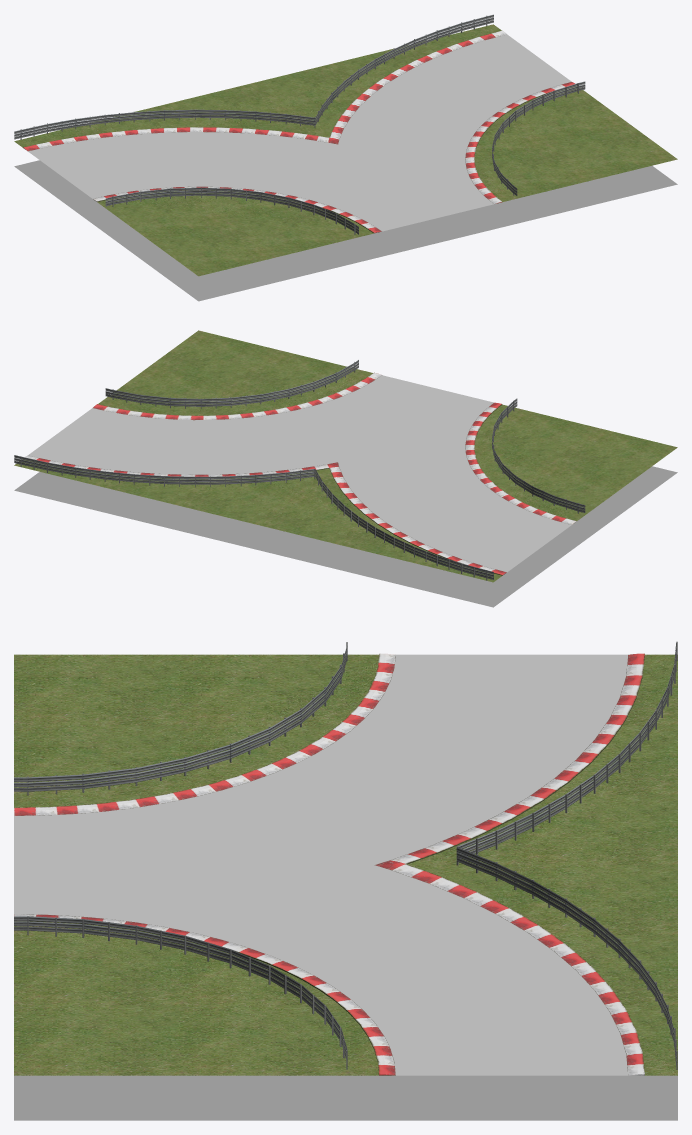
The model's file is Track_Split_A_Mobile.fbx.
3 views of the same model, one above another, from view 1: azimuth 30°, elevation 25°; view 2: azimuth 150°, elevation 25°; view 3: azimuth 270°, elevation 25° (orthographic). The views are drawn at different scales.
Parts seen in each view (by area): view 1: Road, Grass, Snap_Plane_Invisible2, Rail_C, Curb_C, Rail_B, Curb_B, Rail_A, Curb_A; view 2: Road, Grass, Snap_Plane_Invisible2, Rail_C, Curb_C, Rail_A, Curb_B, Curb_A, Rail_B; view 3: Road, Grass, Snap_Plane_Invisible2, Curb_C, Rail_C, Rail_A, Rail_B, Curb_A, Curb_B.
Part boxes in pixels (x1,y1,x2,y2): Road: [28, 34, 571, 231]; Grass: [14, 24, 677, 276]; Snap_Plane_Invisible2: [14, 160, 677, 301]; Rail_C: [14, 14, 493, 139]; Curb_C: [23, 30, 506, 203]; Rail_B: [105, 187, 358, 234]; Curb_B: [465, 82, 575, 204]; Rail_A: [492, 81, 585, 195]; Curb_A: [93, 186, 381, 233]; Road: [28, 375, 571, 572]; Grass: [14, 330, 677, 582]; Snap_Plane_Invisible2: [14, 466, 677, 607]; Rail_C: [14, 455, 493, 580]; Curb_C: [25, 455, 506, 575]; Rail_A: [105, 360, 358, 408]; Curb_B: [93, 372, 381, 420]; Curb_A: [465, 402, 576, 524]; Rail_B: [492, 398, 585, 513]; Road: [14, 654, 628, 1075]; Grass: [14, 654, 677, 1075]; Snap_Plane_Invisible2: [14, 1075, 677, 1120]; Curb_C: [374, 653, 644, 1075]; Rail_C: [456, 641, 677, 1069]; Rail_A: [14, 916, 347, 1069]; Rail_B: [14, 642, 347, 795]; Curb_A: [14, 653, 395, 815]; Curb_B: [14, 914, 395, 1075].
Size of the model in its own units: 60 by 4.24 by 40.01.
